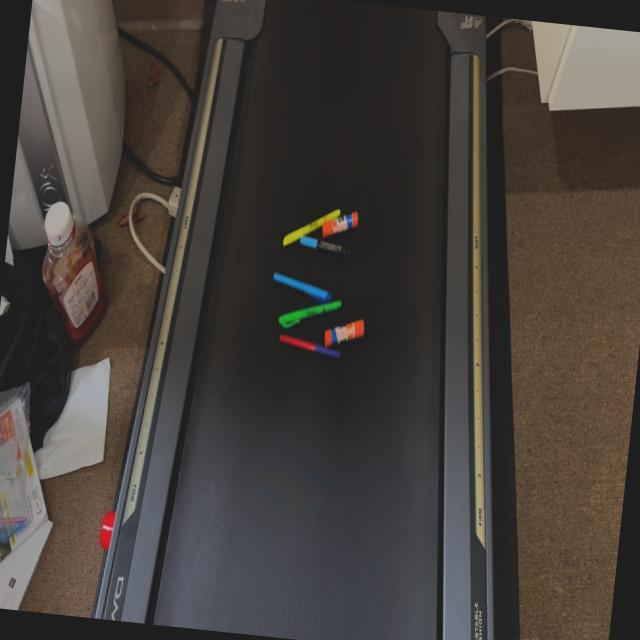Trash: (280, 198, 342, 253), (278, 292, 342, 334), (270, 272, 335, 306), (274, 332, 344, 361), (297, 232, 351, 262), (321, 316, 366, 348), (322, 205, 359, 238)
